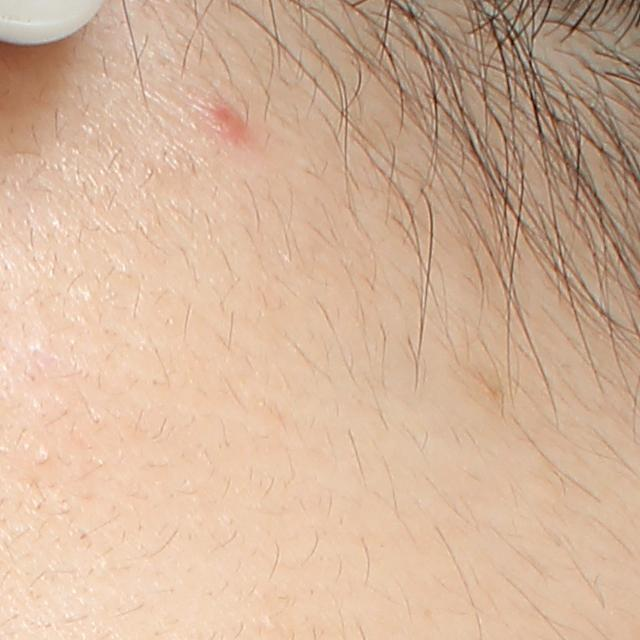papule: (201, 97, 249, 145)
